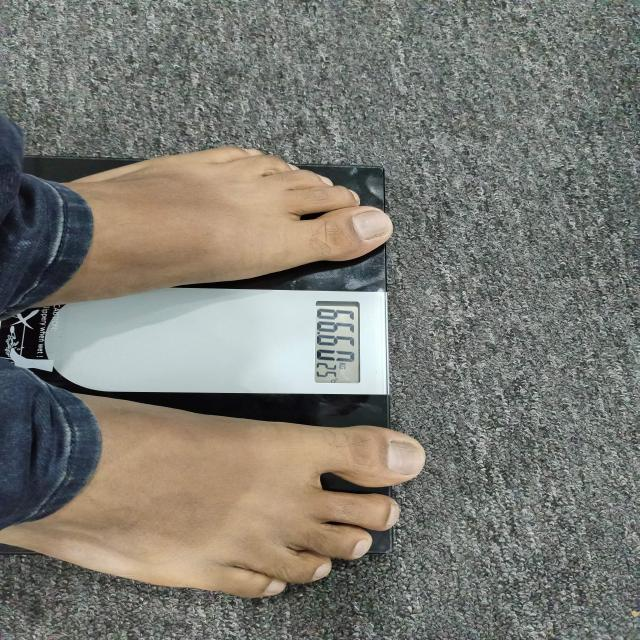ws: (39, 247, 390, 430)
